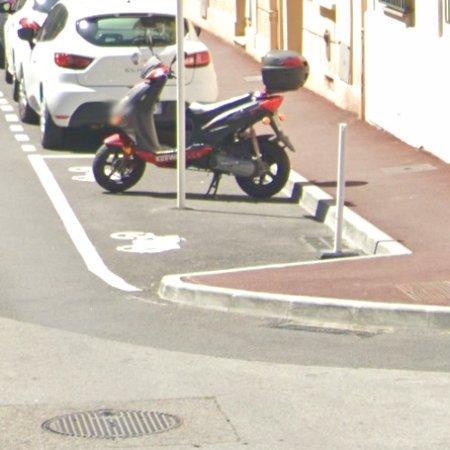motorcycles: (186, 52, 309, 198), (93, 57, 176, 193)
